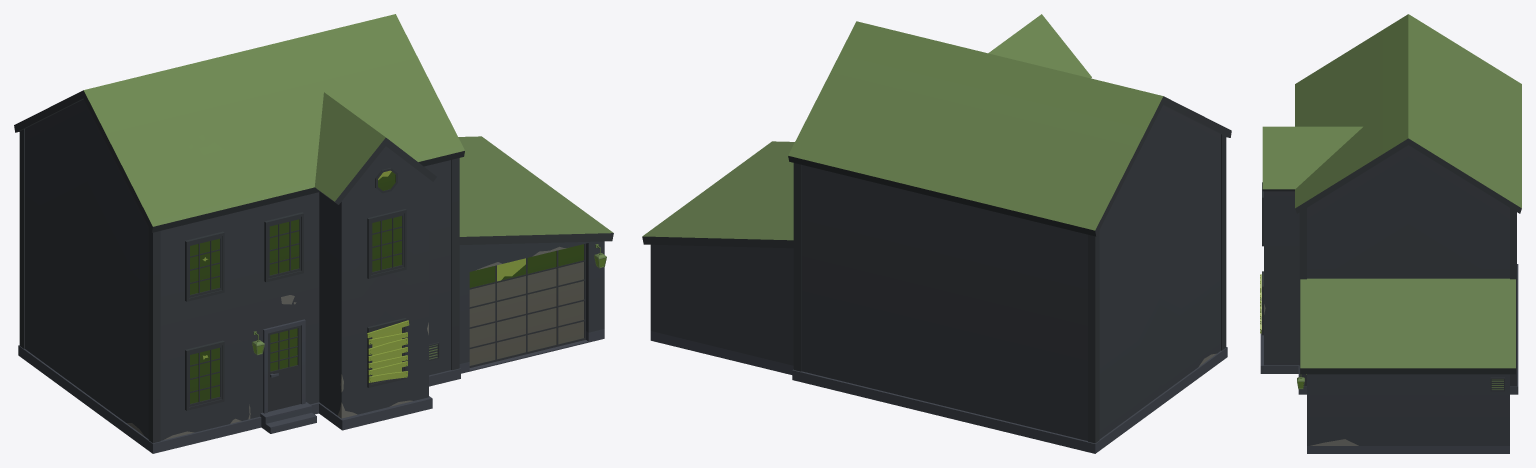
Rendered from OldHouse_16.fbx.
3 views of the same model, side by side, from view 1: azimuth 30°, elevation 25°; view 2: azimuth 150°, elevation 25°; view 3: azimuth 270°, elevation 25° (orthographic). The views are drawn at different scales.
Visible parts, largest first — view 1: OldHouse_16; view 2: OldHouse_16; view 3: OldHouse_16.
Part boxes in pixels (<box>): OldHouse_16: <box>14,14,613,453</box>; OldHouse_16: <box>642,14,1231,453</box>; OldHouse_16: <box>1260,14,1521,453</box>.
Bounding box in the file's own units: 12.18 × 7.9 × 7.29.
